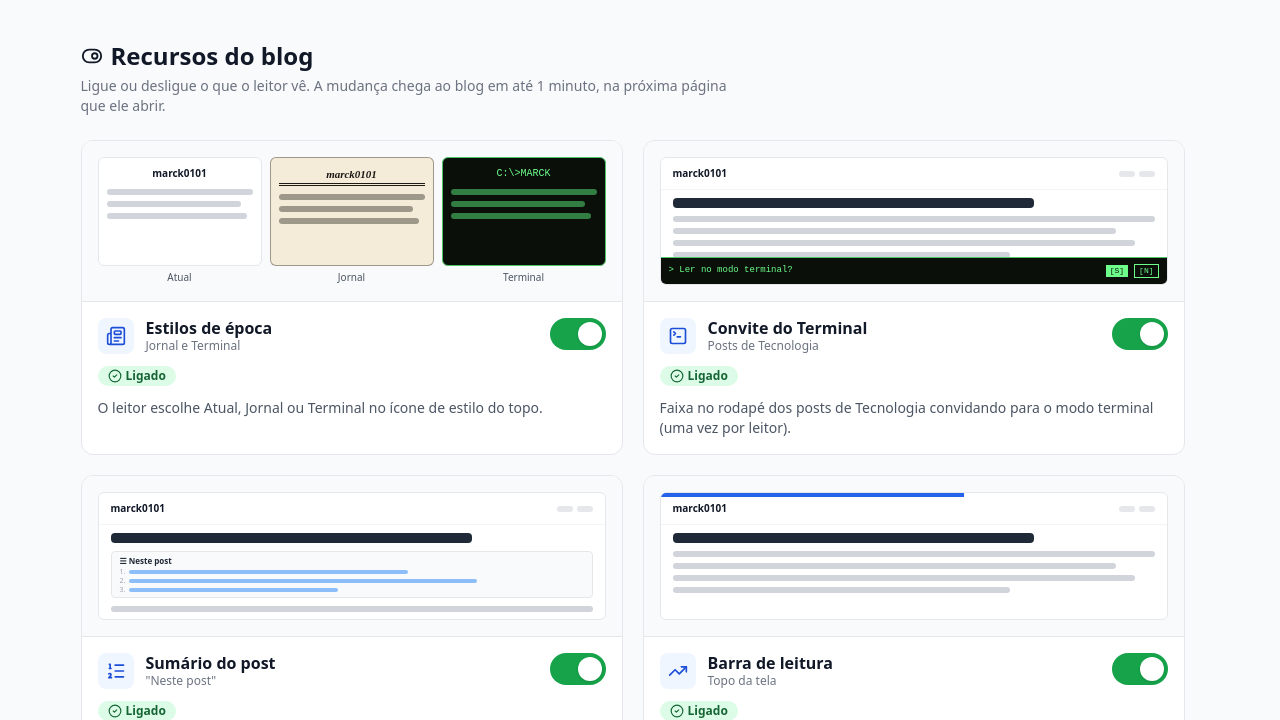
página Recursos do blog (painel) › o clique pergunta antes e nada muda até confirmar
This screenshot has width=1280, height=720.
Step 1. Click the switch named "Sumário do post" → click(578, 669), box [550,653,606,685]
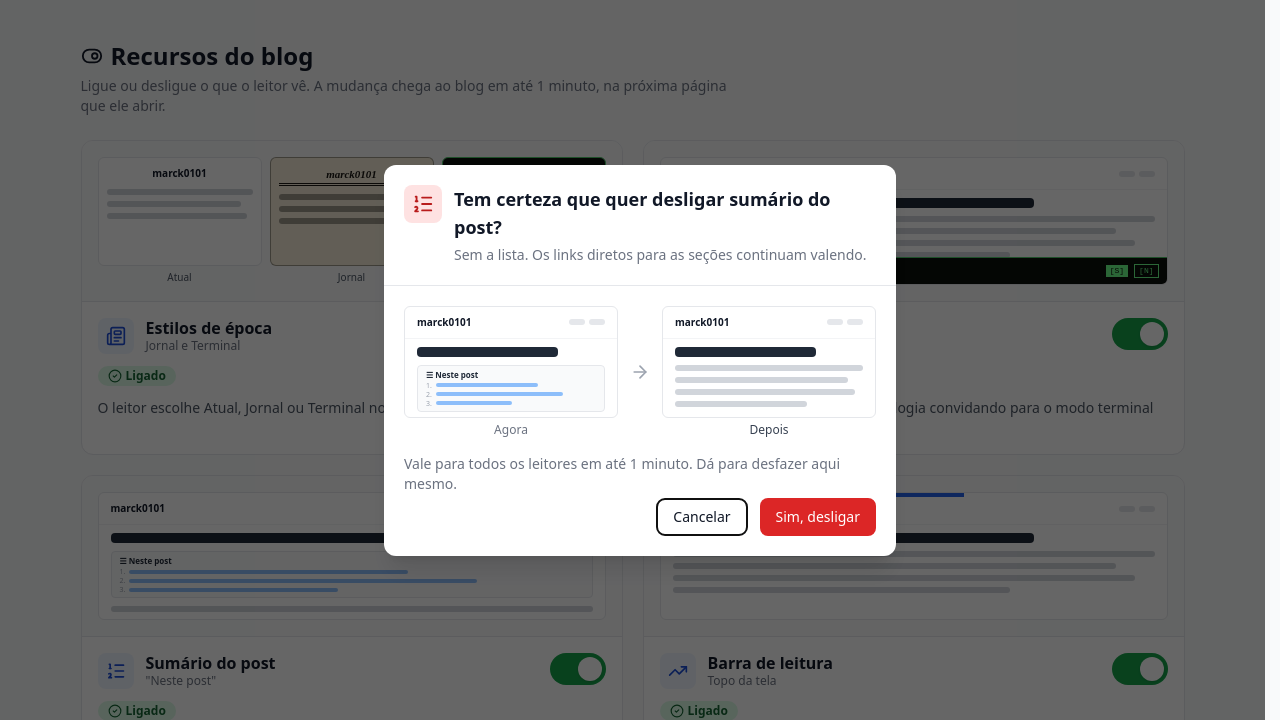
Check: the dialog shows "Tem certeza que quer desligar sumário do post?", box [384,164,896,556]
Check: the button "Cancelar" is shown, box [656,498,748,536]
